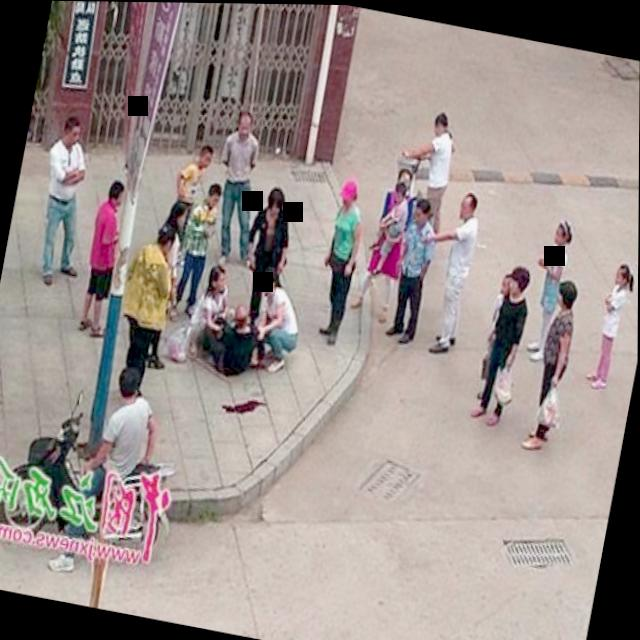Fall-Detected: (194, 290, 270, 380)
